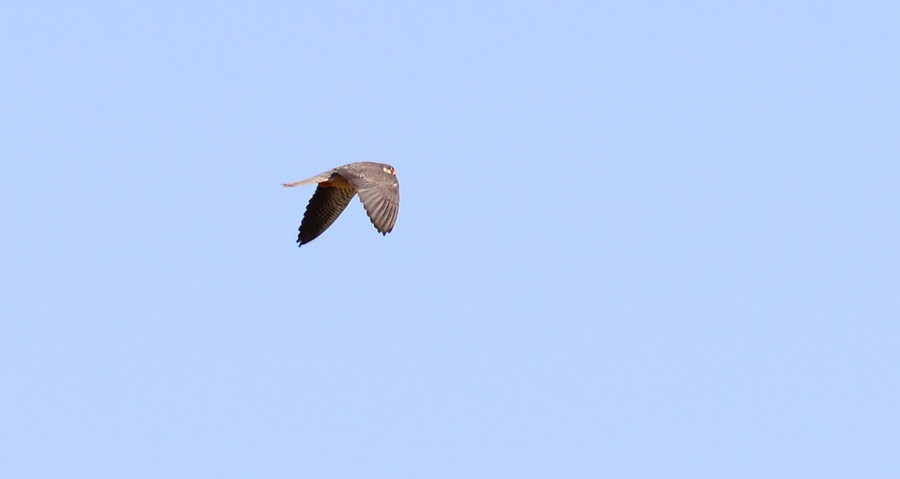bird: (280, 157, 400, 252)
